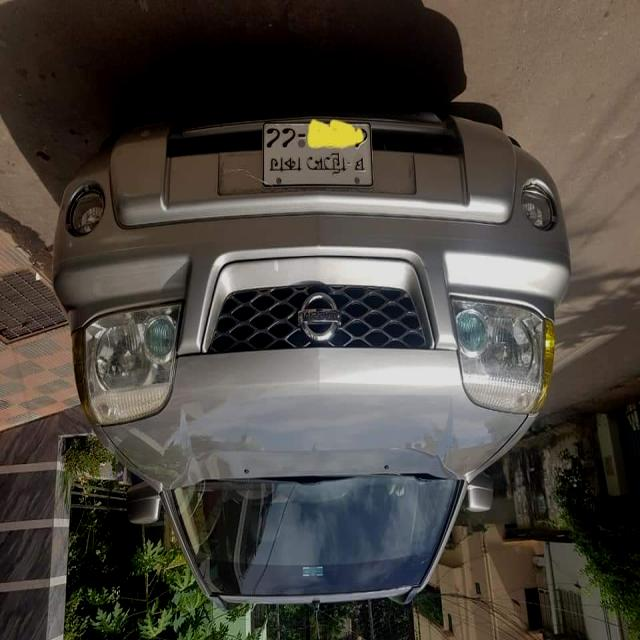silver: (49, 69, 570, 598)
